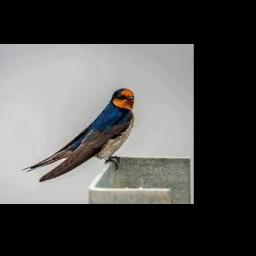Swallow: (22, 88, 134, 182)
